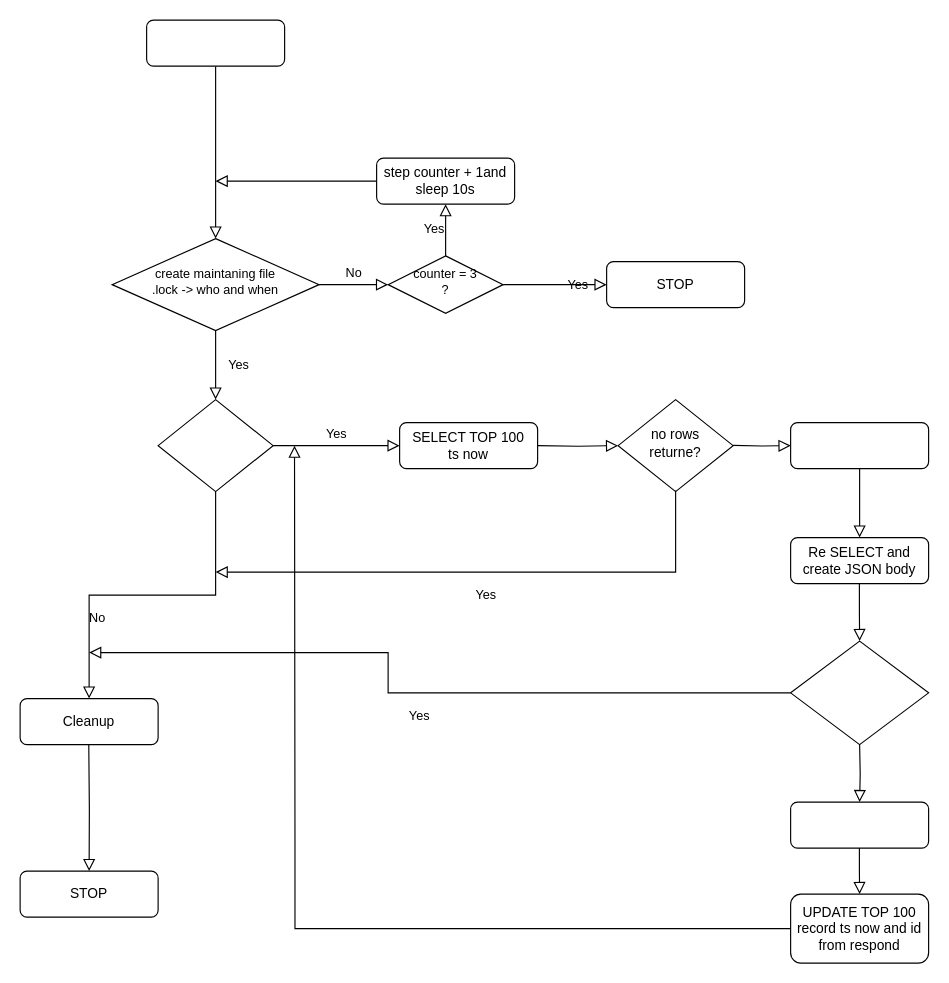
This 949x983 diagram has some shape labels left out. Here are the shapes that lost their labels. From the top down, the centre of each, then its label:
[215,42]: START: time check every 2nd minute
[215,445]: Central available ?
[859,445]: UPDATE TOP 100 record ts -1
[859,692]: send TOP 100 to central. Timeout?
[859,824]: get respond JSON
